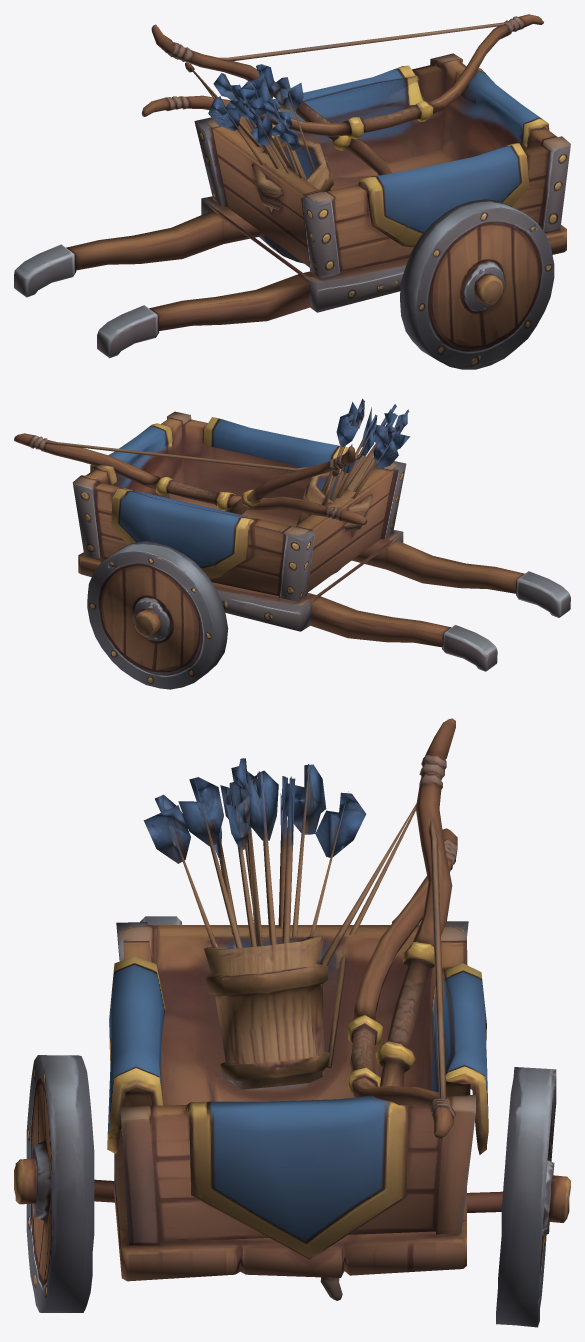
File: addon_cart_tripo.glb
3 views of the same model, one above another, from view 1: azimuth 30°, elevation 25°; view 2: azimuth 150°, elevation 25°; view 3: azimuth 270°, elevation 25° (orthographic). The views are drawn at different scales.
Parts seen in each view (by area): view 1: tripo_node_4d79edf5-e4cb-4f0e-95d2-26ee3757b54c; view 2: tripo_node_4d79edf5-e4cb-4f0e-95d2-26ee3757b54c; view 3: tripo_node_4d79edf5-e4cb-4f0e-95d2-26ee3757b54c.
Part boxes in pixels (<box>): tripo_node_4d79edf5-e4cb-4f0e-95d2-26ee3757b54c: <box>14,14,570,369</box>; tripo_node_4d79edf5-e4cb-4f0e-95d2-26ee3757b54c: <box>14,398,570,689</box>; tripo_node_4d79edf5-e4cb-4f0e-95d2-26ee3757b54c: <box>14,718,570,1327</box>.
Bounding box in the file's own units: 0.998 × 0.5332 × 0.5957.
Materials: 1 (1 with a texture image).
